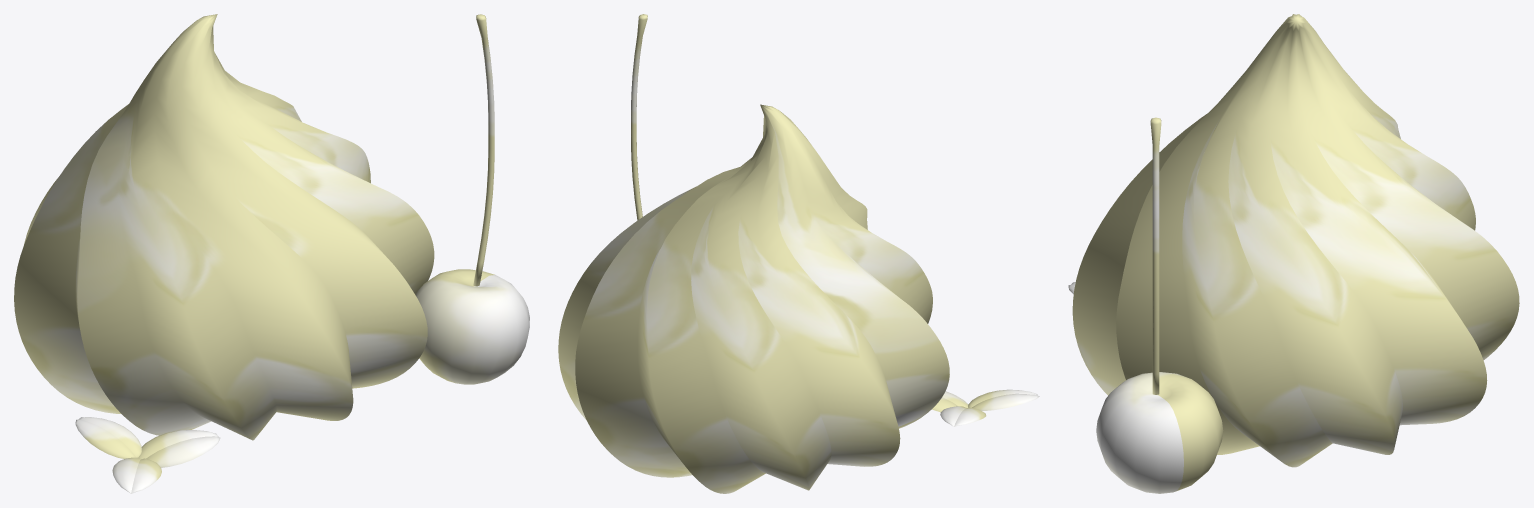
File: Cream.fbx
The picture shows the model from 3 angles, left to right: view 1: azimuth 30°, elevation 25°; view 2: azimuth 150°, elevation 25°; view 3: azimuth 270°, elevation 25°; orthographic projection. The views are drawn at different scales.
Parts seen in each view (by area): view 1: pSphere1, pSphere2, polySurface7, pCylinder1; view 2: pSphere1, polySurface7, pCylinder1; view 3: pSphere1, pSphere2, pCylinder1.
Boxes of the visible parts, left/top/right/bottom form: pSphere1: left=14, top=14, right=434, bottom=440; pSphere2: left=415, top=269, right=529, bottom=384; polySurface7: left=75, top=417, right=220, bottom=493; pCylinder1: left=473, top=14, right=494, bottom=286; pSphere1: left=558, top=104, right=949, bottom=493; polySurface7: left=932, top=389, right=1039, bottom=426; pCylinder1: left=631, top=14, right=647, bottom=220; pSphere1: left=1072, top=14, right=1519, bottom=467; pSphere2: left=1096, top=372, right=1223, bottom=493; pCylinder1: left=1150, top=117, right=1161, bottom=394.
Bounding box in the file's own units: 2.48 × 2.05 × 2.14.
